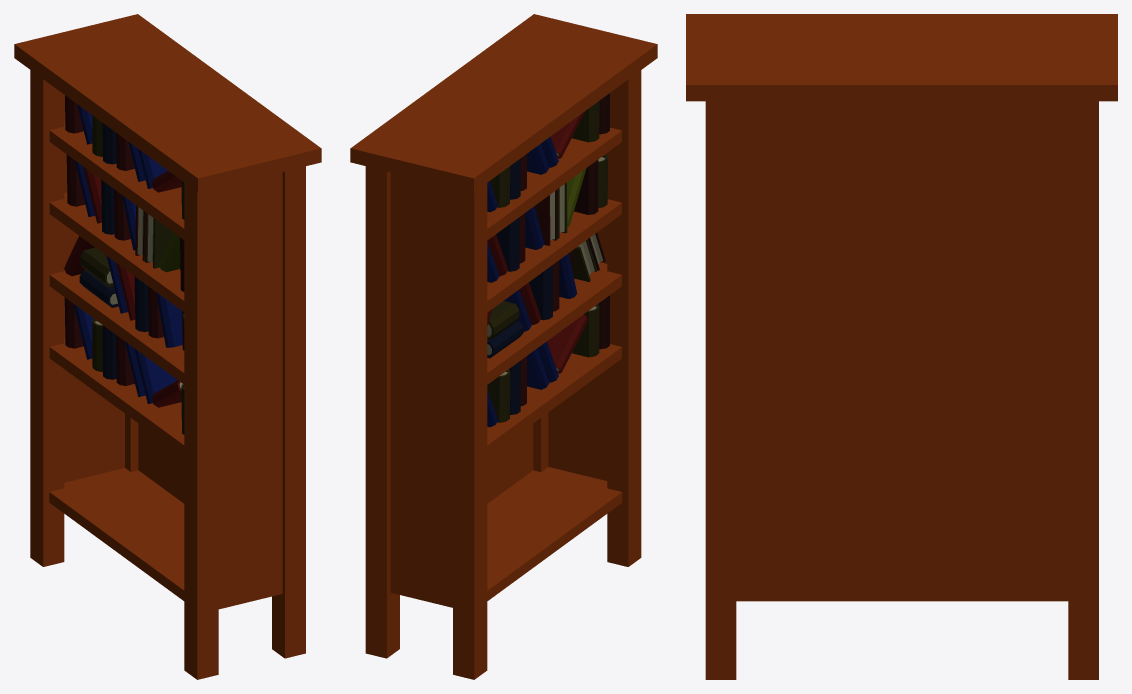
3 renders of one model, left to right at view 1: azimuth 30°, elevation 25°; view 2: azimuth 150°, elevation 25°; view 3: azimuth 270°, elevation 25°, orthographic. The views are drawn at different scales.
Parts seen in each view (by area): view 1: 书柜, 立方体.017, 立方体.026, 立方体.002, 立方体.006; view 2: 书柜, 立方体.017, 立方体.002, 立方体.026, 立方体.006; view 3: 书柜.
Boxes of the visible parts, <box> form: 书柜: <box>14,14,321,679</box>; 立方体.017: <box>66,154,184,291</box>; 立方体.026: <box>64,236,184,350</box>; 立方体.002: <box>64,297,184,434</box>; 立方体.006: <box>65,95,184,219</box>; 书柜: <box>350,14,657,679</box>; 立方体.017: <box>487,155,607,282</box>; 立方体.002: <box>487,295,609,427</box>; 立方体.026: <box>487,232,605,358</box>; 立方体.006: <box>487,93,609,212</box>; 书柜: <box>686,14,1117,679</box>.
Size of the model in its own units: 2.23 by 8.81 by 5.75.
